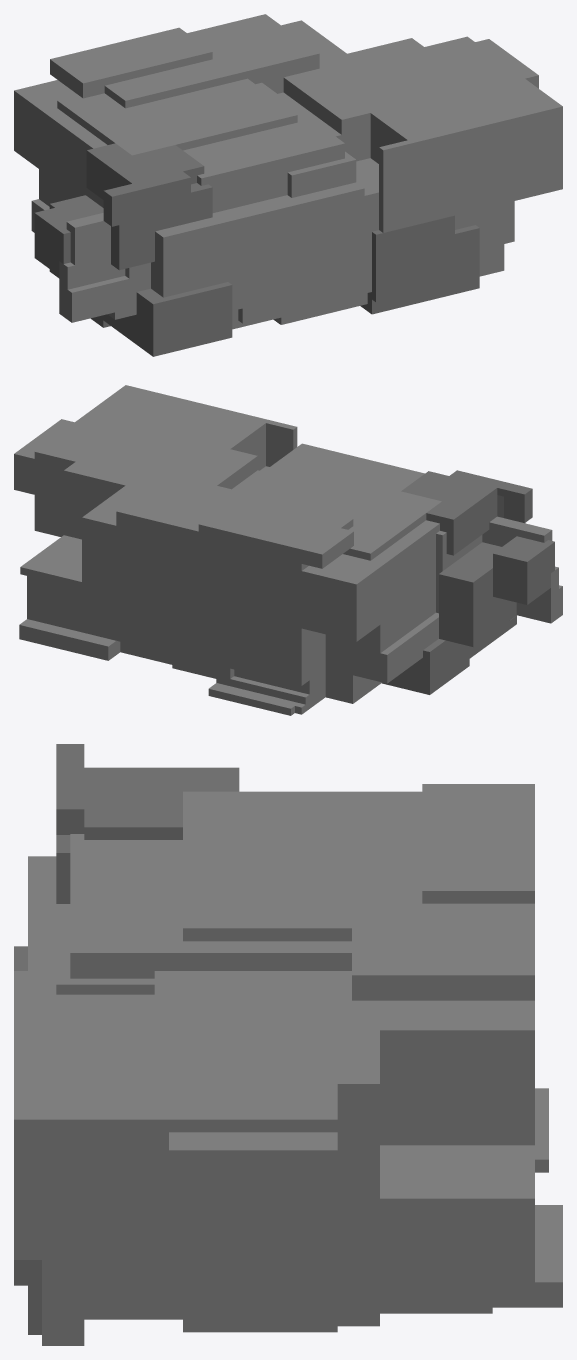
File: Cloud.obj
The picture shows the model from 3 angles, top to bottom: view 1: azimuth 30°, elevation 25°; view 2: azimuth 150°, elevation 25°; view 3: azimuth 270°, elevation 25°; orthographic projection. The views are drawn at different scales.
Size of the model in its own units: 6.9 by 2.5 by 3.9.
1 material, 1 textured.
